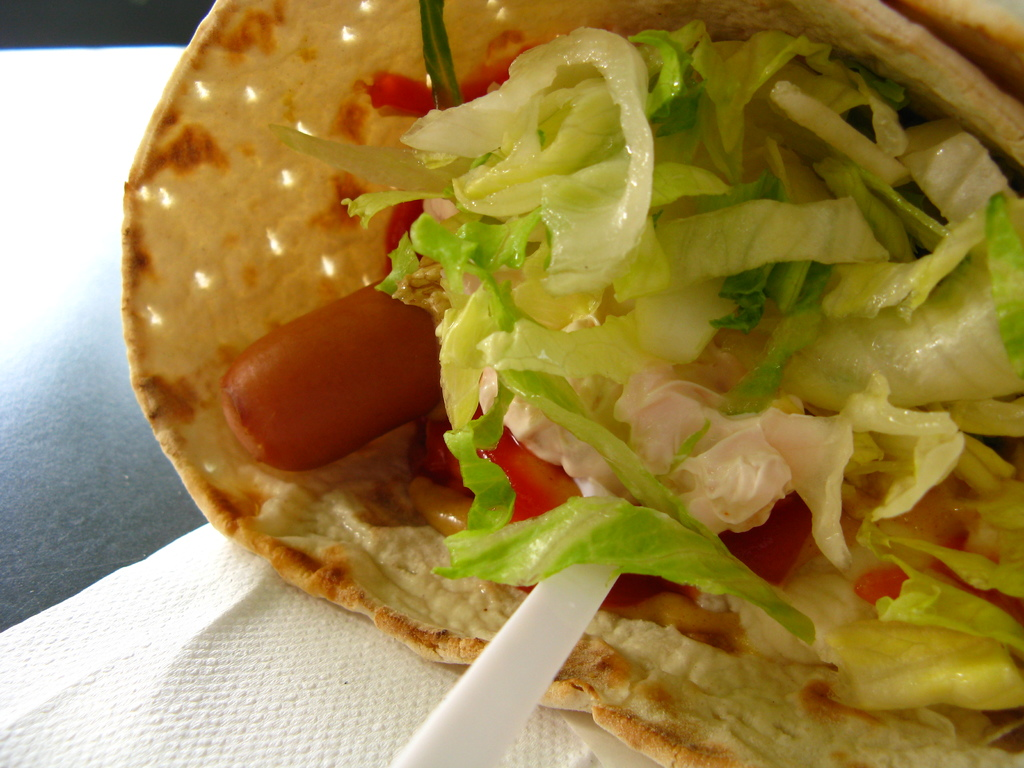taco: (116, 0, 1023, 767)
